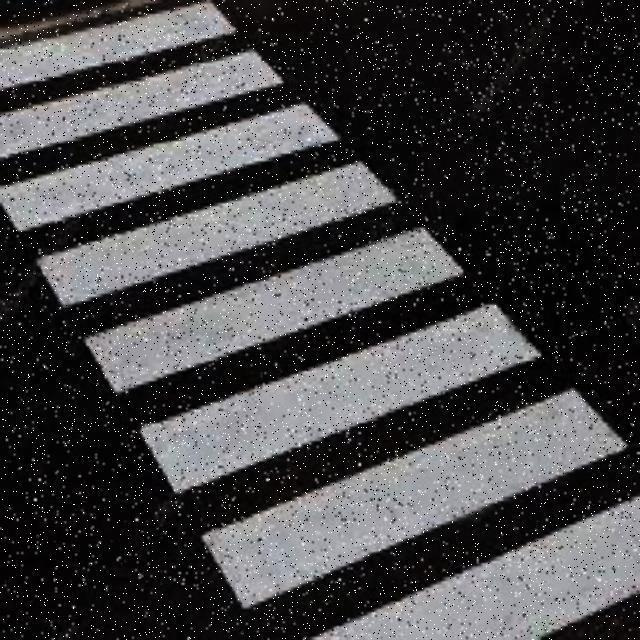crosswalk: (0, 4, 639, 640)
